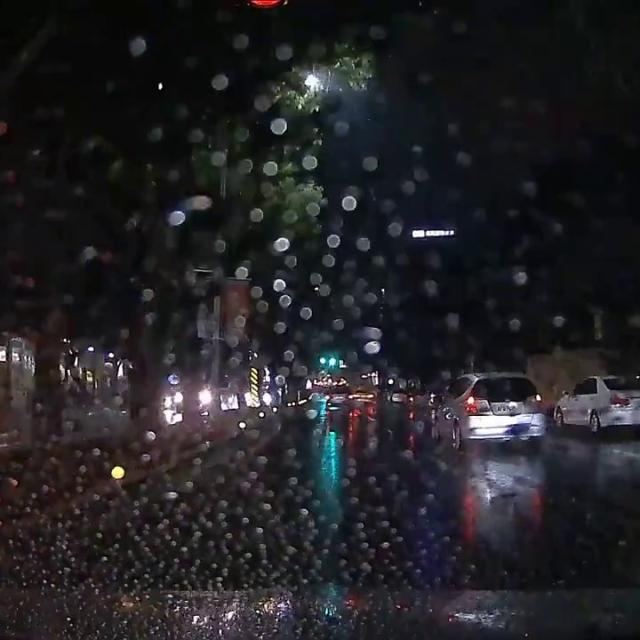Car: (423, 368, 548, 450), (551, 371, 639, 432), (171, 373, 225, 415), (322, 382, 355, 413), (348, 386, 376, 409), (387, 387, 409, 402)
